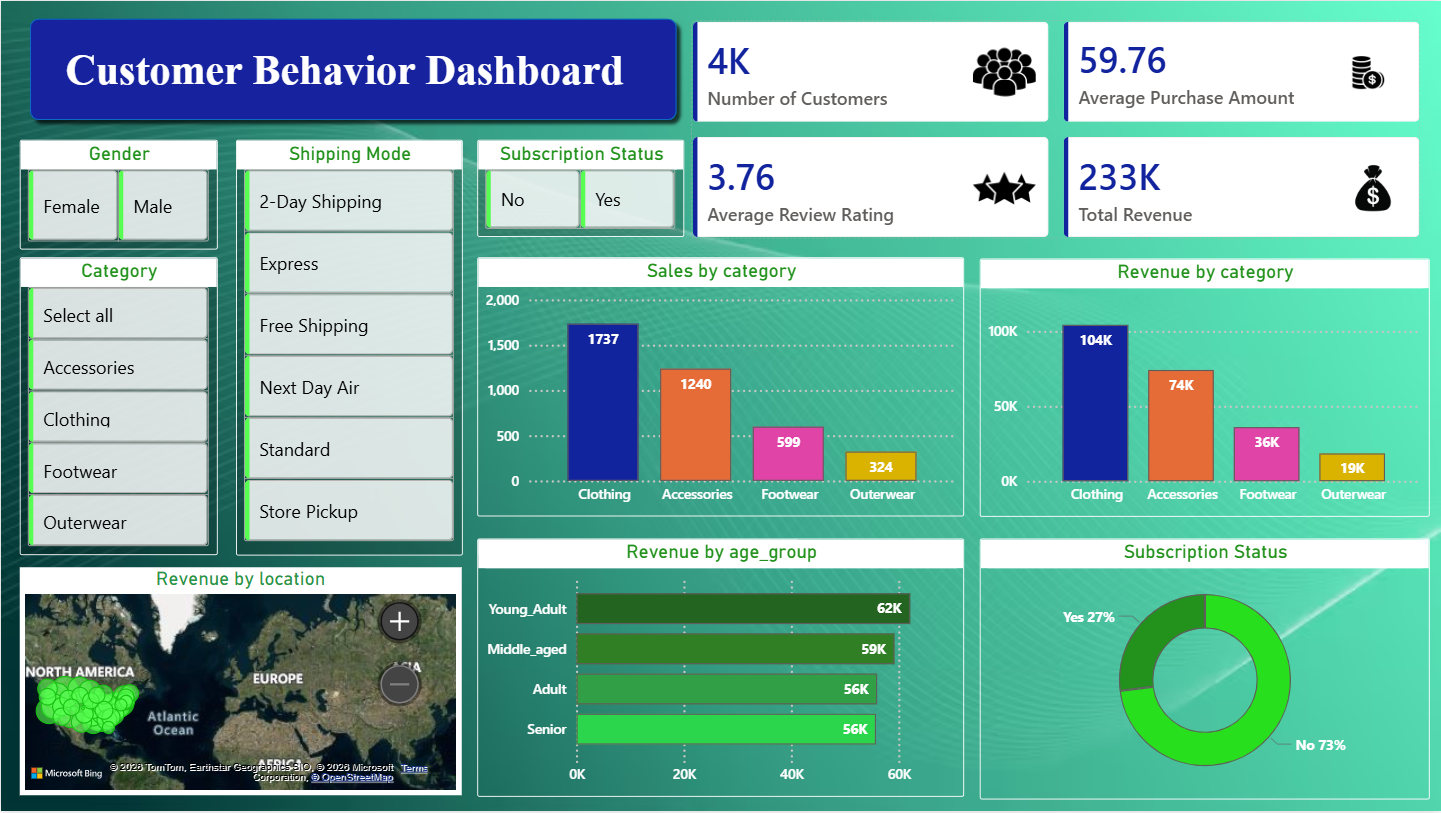

What the dashboard file says about the page in this screenshot:
{"tool":"powerbi","page":{"name":"Page 1","canvas":[1280,720],"ordinal":0},"visuals":[{"type":"cardVisual","fields":{"Data":["public customer_data.Number of Customers","public customer_data.Average Purchase Amount","public customer_data.Average Review Rating","public customer_data.Total Revenue"]},"box":[596.4,0,683.3,228.6],"z":0},{"type":"donutChart","title":"Subscription Status","fields":{"Category":["public customer_data.subscription_status"],"Y":["CountNonNull(public customer_data.subscription_status)"]},"box":[870.2,477.4,400,232.1],"z":1000},{"type":"columnChart","fields":{"Y":["Sum(public customer_data.purchase_amount)"],"Category":["public customer_data.category"]},"box":[870.2,228.6,400,229.8],"z":2000},{"type":"columnChart","fields":{"Y":["CountNonNull(public customer_data.item_purchased)"],"Category":["public customer_data.category"]},"box":[423.5,228.2,432.9,230.6],"z":3000},{"type":"barChart","title":"Revenue by age_group","fields":{"Category":["public customer_data.age_group"],"Y":["Sum(public customer_data.purchase_amount)"]},"box":[423.5,477.6,432.9,229.4],"z":4000},{"type":"advancedSlicerVisual","title":"Category","fields":{"Values":["public customer_data.category"]},"box":[17.1,228,175.6,264.6],"z":5000},{"type":"advancedSlicerVisual","title":"Shipping Mode","fields":{"Values":["public customer_data.shipping_type"]},"box":[208.5,123.2,201.2,369.5],"z":6000},{"type":"advancedSlicerVisual","title":"Gender","fields":{"Values":["public customer_data.gender"]},"box":[17.1,123.2,175.6,97.6],"z":7000},{"type":"advancedSlicerVisual","title":"Subscription Status","fields":{"Values":["public customer_data.subscription_status"]},"box":[423.2,123.2,184.1,86.6],"z":8000},{"type":"map","fields":{"Size":["Sum(public customer_data.purchase_amount)"],"Category":["public customer_data.location"]},"box":[17.1,503.7,392.7,202.4],"z":9000},{"type":"shape","box":[17.6,8.2,590.6,105.9],"z":10000},{"type":"textbox","box":[51.8,34.1,567.1,70.6],"z":11000}]}

Visuals, with their boxes in screenshot pixels (x1, y1, x2, y2), scaled from the page's 1280x720 canvas onto the 1441x813 screenshot:
cardVisual - public customer_data.Number of Customers x public customer_data.Average Purchase Amount: bbox=(671, 0, 1440, 258)
"Subscription Status" donutChart: bbox=(980, 539, 1430, 801)
columnChart - Sum(public customer_data.purchase_amount) x public customer_data.category: bbox=(980, 258, 1430, 518)
columnChart - CountNonNull(public customer_data.item_purchased) x public customer_data.category: bbox=(477, 258, 964, 518)
"Revenue by age_group" barChart: bbox=(477, 539, 964, 798)
"Category" advancedSlicerVisual: bbox=(19, 257, 217, 556)
"Shipping Mode" advancedSlicerVisual: bbox=(235, 139, 461, 556)
"Gender" advancedSlicerVisual: bbox=(19, 139, 217, 249)
"Subscription Status" advancedSlicerVisual: bbox=(476, 139, 684, 237)
map - Sum(public customer_data.purchase_amount) x public customer_data.location: bbox=(19, 569, 461, 797)
shape: bbox=(20, 9, 685, 129)
textbox: bbox=(58, 39, 697, 118)
